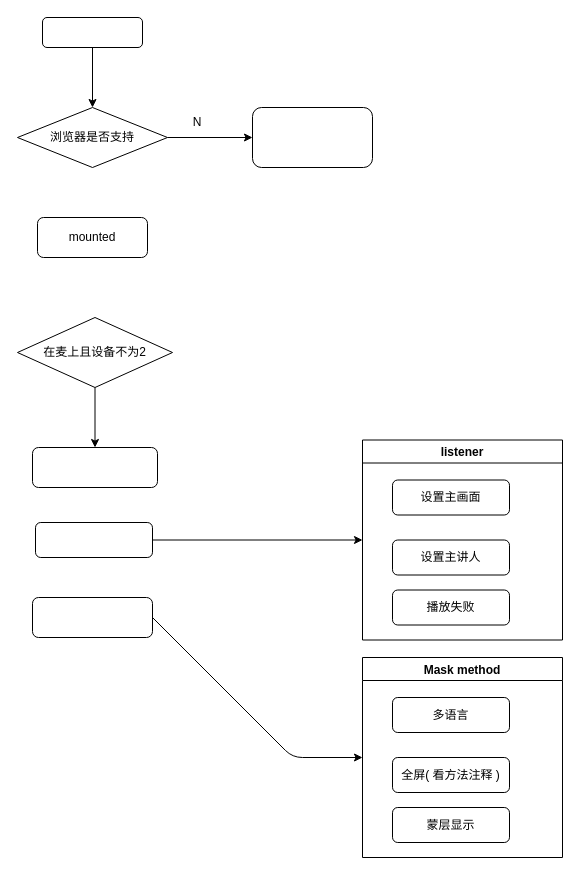
This 580x875 diagram has some shape labels left out. Here are the shapes that lost their labels. From the top down, the centre of each, then its label:
[92,32]: created
[312,137]: 提示不支持
[95,467]: 开始创建BScroll
[93,540]: 事件监听集合
[92,617]: 蒙层显示控制
